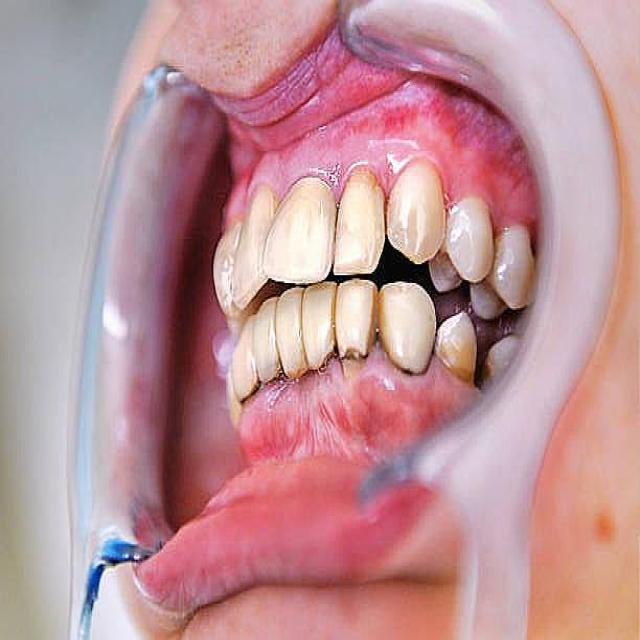caries: (262, 359, 293, 396), (340, 342, 370, 380), (235, 375, 263, 415), (394, 355, 426, 387), (294, 353, 320, 390), (321, 346, 339, 384)
